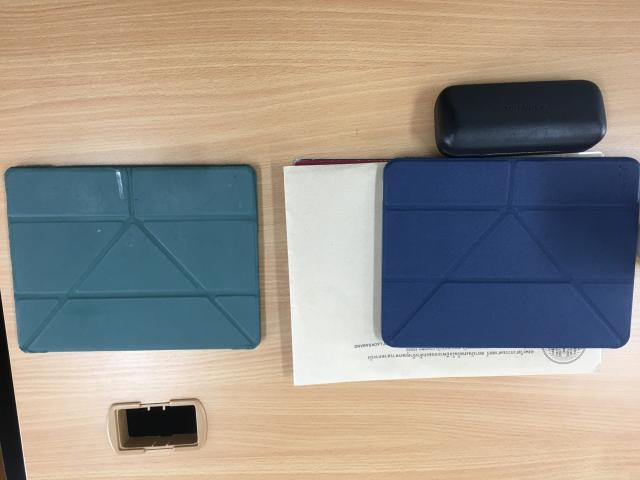Glasses: (433, 79, 608, 159)
